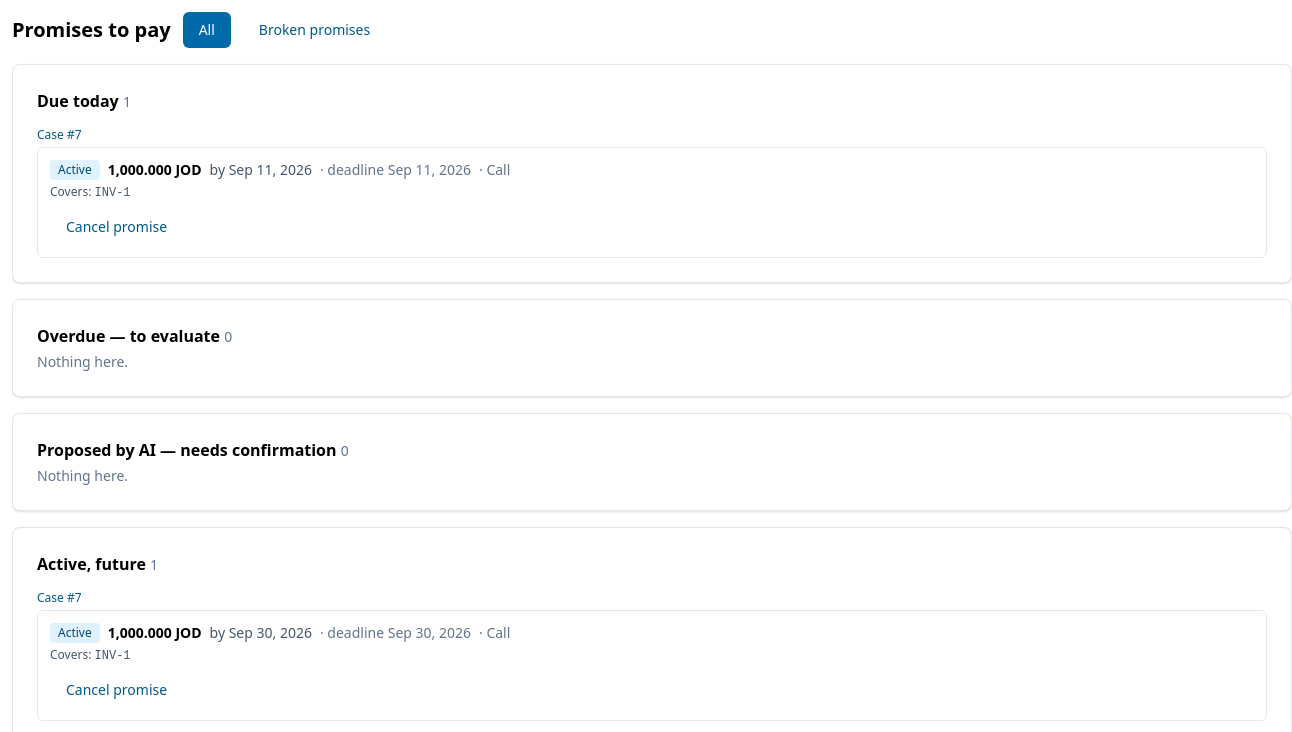
Scenario: promises (slice 6 AC-17) › groups the list and offers the broken view with the evaluation arithmetic
The image size is (1292, 732).
Expected: the element with test id "group-dueToday" shows "1,000.000 JOD", [37,121,1267,258]
Click the button with test id "view-broken". click: (314,30)
box: [243,12,386,48]
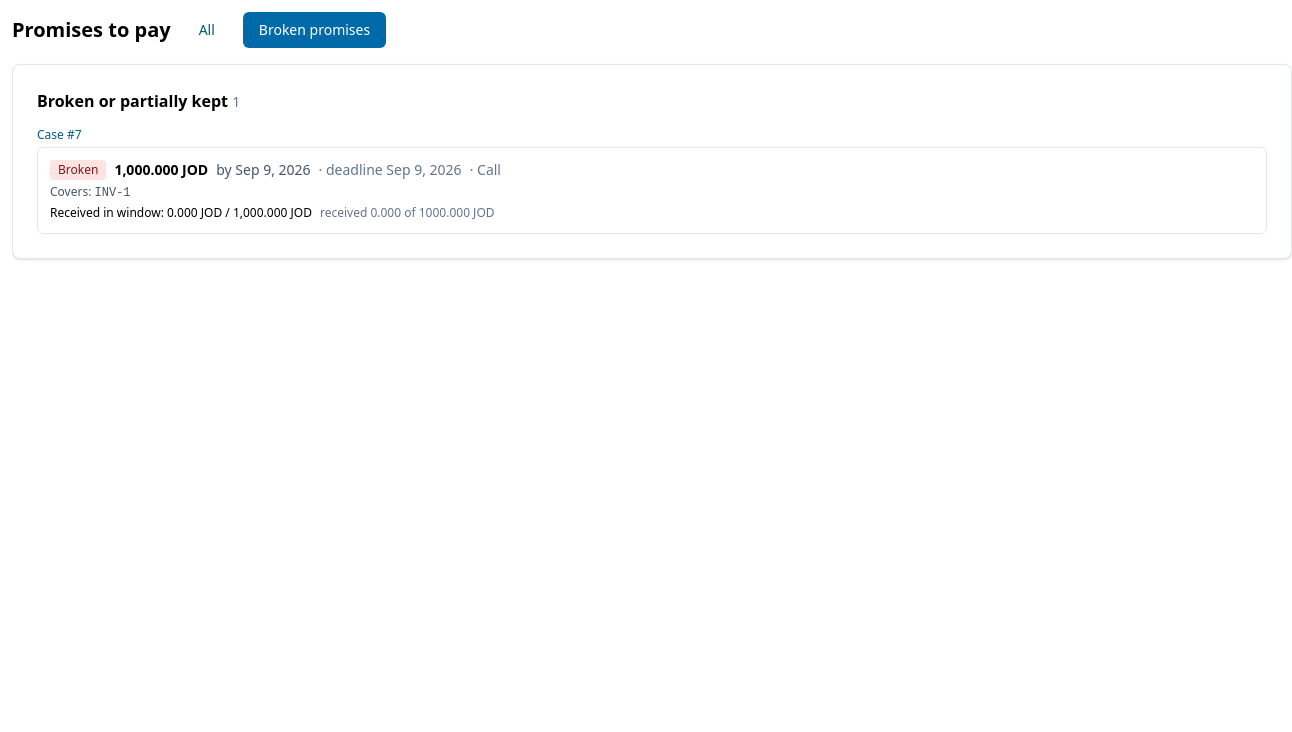
Expected: the element with test id "evaluation" shows "0.000 JOD / 1,000.000 JOD", [50,204,494,221]
Result: the number of elements with test id "promise-card" is 1 at [37,147,1267,234]
